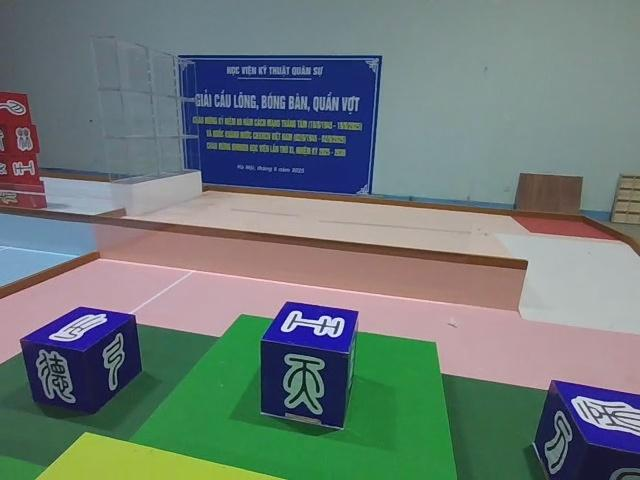R2 Fake Blue: (19, 309, 142, 421), (262, 302, 363, 432), (529, 382, 638, 480)
